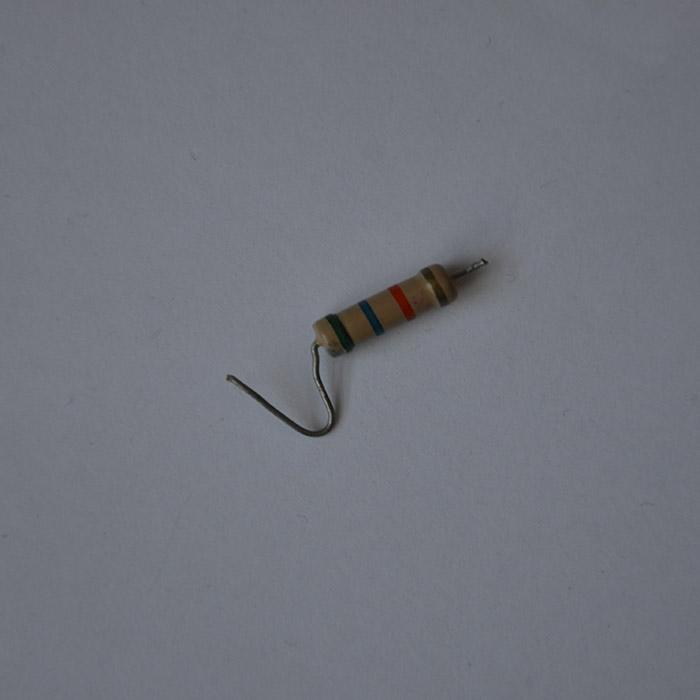resistor: (309, 261, 464, 357)
